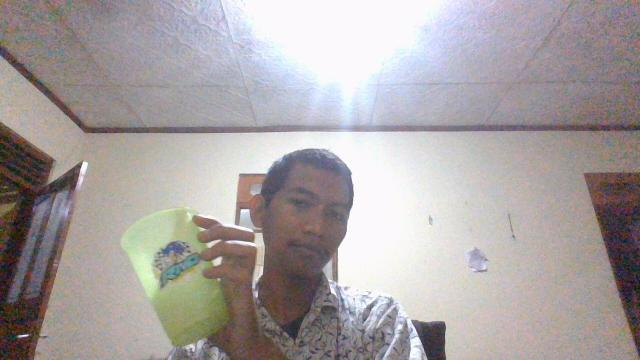botol-hijau: (114, 204, 236, 346)
